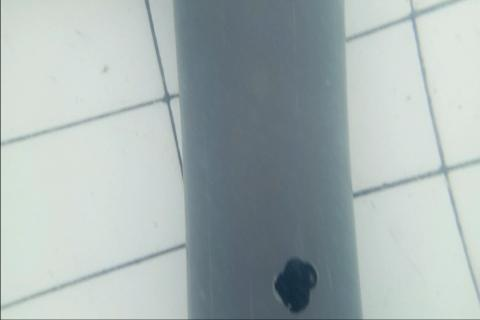kebocoran: (272, 254, 318, 316)
